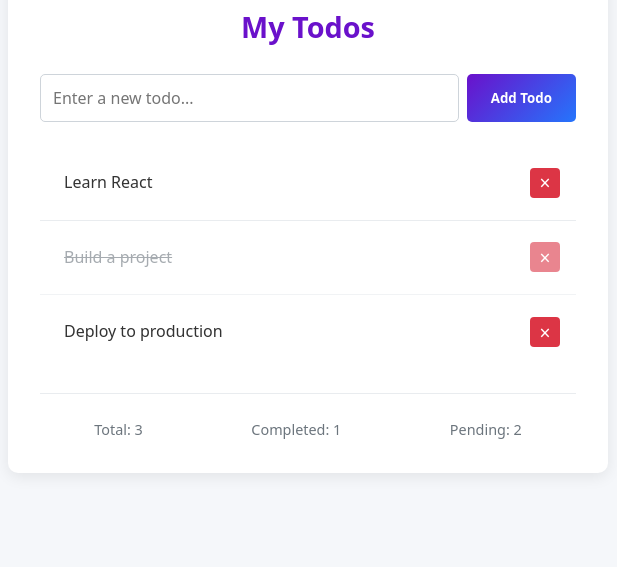
Test case: TodoList Component › adds a new todo
Type "Test new todo" into the field with placeholder "Enter a new todo..." at point(249, 98), box 40,74 -> 459,122
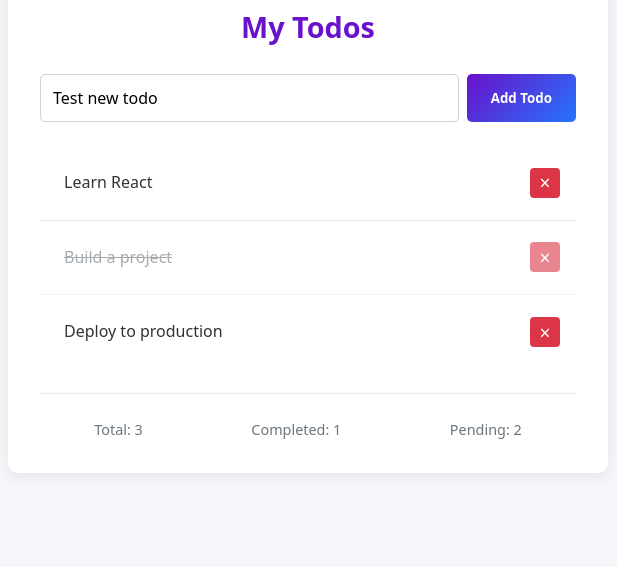
Click the button "Add Todo" at point(521, 98), box 467,74 -> 576,122
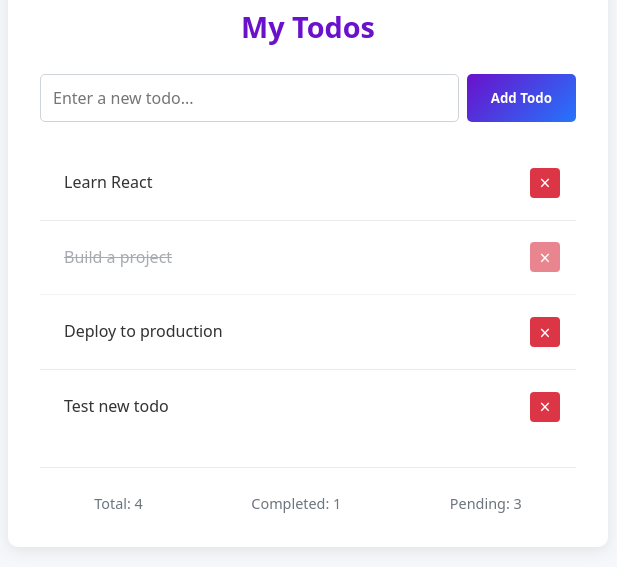
Now the text "Test new todo" is shown, box 64,395 -> 169,417
